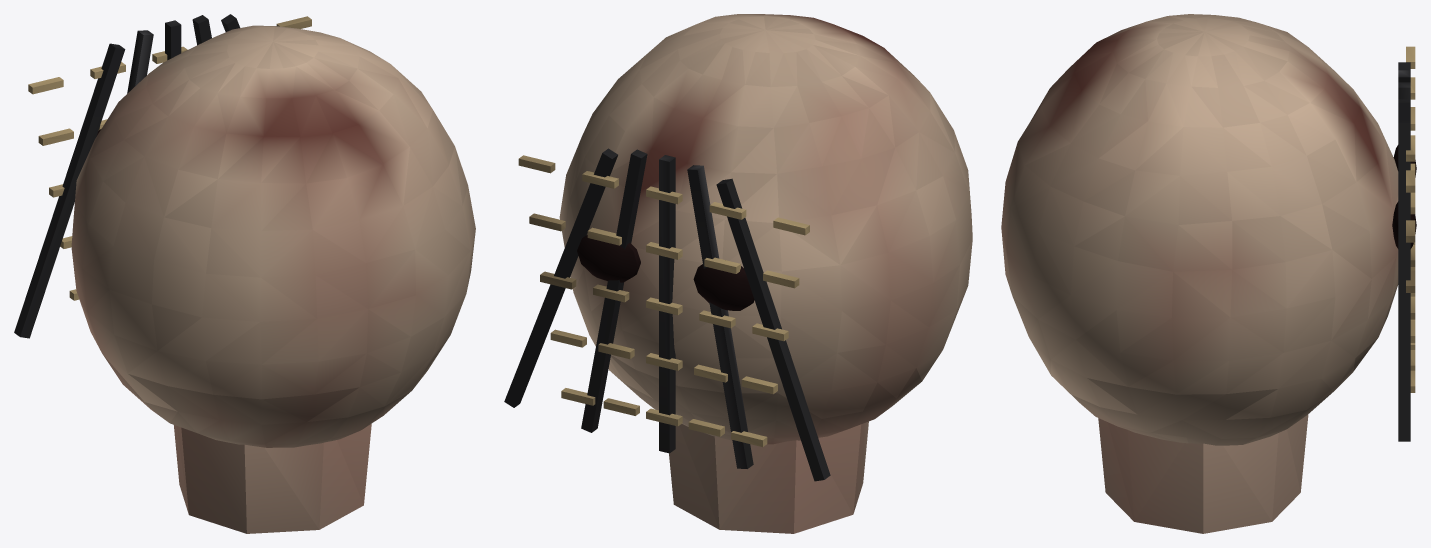
File: ScavengerHead.glb
3 views of the same model, side by side, from view 1: azimuth 30°, elevation 25°; view 2: azimuth 150°, elevation 25°; view 3: azimuth 270°, elevation 25° (orthographic). The views are drawn at different scales.
Visible parts, largest first — view 1: ScavengerHead_leather, ScavengerHead_skinScavenger, ScavengerHead_metal_dark, ScavengerHead_rope; view 2: ScavengerHead_leather, ScavengerHead_metal_dark, ScavengerHead_skinScavenger, ScavengerHead_rope, ScavengerHead_maw; view 3: ScavengerHead_leather, ScavengerHead_skinScavenger, ScavengerHead_metal_dark, ScavengerHead_rope.
Part boxes in pixels (<box>): ScavengerHead_leather: <box>71,25,475,447</box>; ScavengerHead_skinScavenger: <box>174,424,371,533</box>; ScavengerHead_metal_dark: <box>14,14,240,338</box>; ScavengerHead_rope: <box>28,16,311,300</box>; ScavengerHead_leather: <box>559,14,972,444</box>; ScavengerHead_metal_dark: <box>504,148,830,481</box>; ScavengerHead_skinScavenger: <box>669,421,868,533</box>; ScavengerHead_rope: <box>518,155,809,447</box>; ScavengerHead_maw: <box>577,235,754,310</box>; ScavengerHead_leather: <box>1001,14,1398,445</box>; ScavengerHead_skinScavenger: <box>1098,414,1308,533</box>; ScavengerHead_metal_dark: <box>1398,62,1410,441</box>; ScavengerHead_rope: <box>1406,46,1415,392</box>.
Size of the model in its own units: 1.36 by 1.67 by 1.36.
